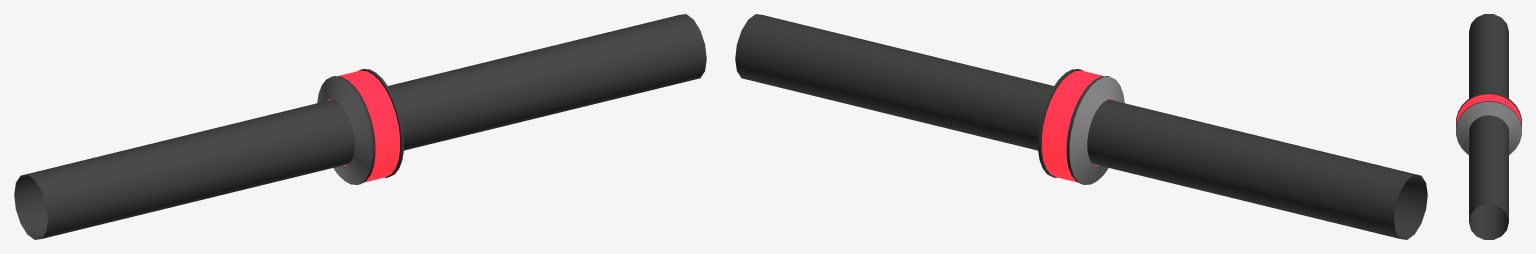
File: Red_Cable_A_2.fbx
The picture shows the model from 3 angles, left to right: view 1: azimuth 30°, elevation 25°; view 2: azimuth 150°, elevation 25°; view 3: azimuth 270°, elevation 25°; orthographic projection. The views are drawn at different scales.
Visible parts, largest first — view 1: Red_Cable_2.001; view 2: Red_Cable_2.001; view 3: Red_Cable_2.001.
Boxes of the visible parts, x1,y1,x2,y2 form: Red_Cable_2.001: [14, 14, 706, 239]; Red_Cable_2.001: [735, 14, 1427, 239]; Red_Cable_2.001: [1456, 14, 1521, 239].
Bounding box in the file's own units: 1.8 × 0.263 × 0.2624.
